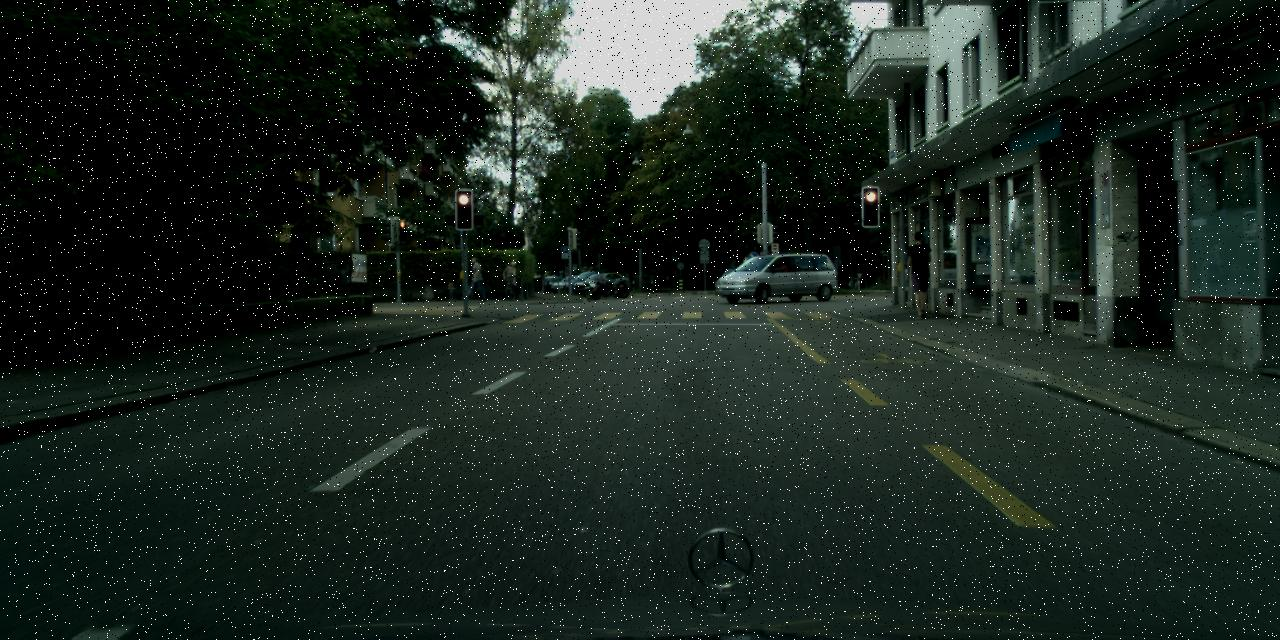ped: (901, 230, 937, 318), (465, 256, 483, 300), (506, 260, 520, 296)
